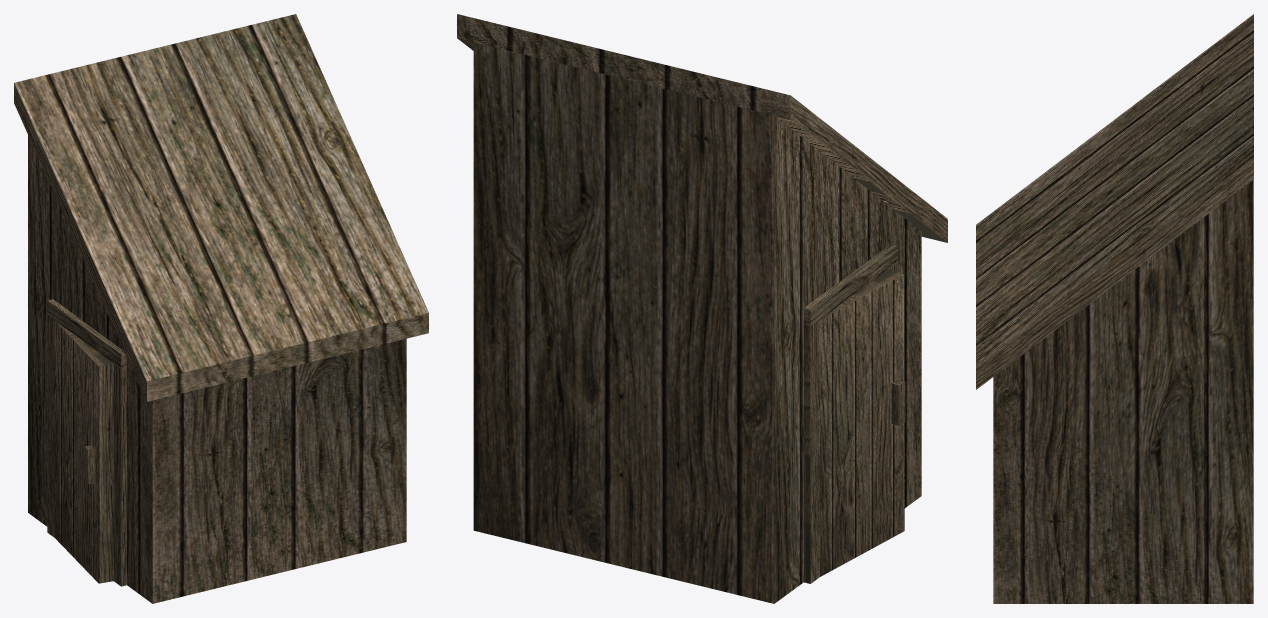
Rendered from mm9_deco_woodshed01.glb.
3 renders of one model, left to right at view 1: azimuth 30°, elevation 25°; view 2: azimuth 150°, elevation 25°; view 3: azimuth 270°, elevation 25°, orthographic. The views are drawn at different scales.
Parts seen in each view (by area): view 1: Woodshed01; view 2: Woodshed01; view 3: Woodshed01.
Boxes of the visible parts, x1=… form: Woodshed01: x1=14, y1=14, x2=428, y2=603; Woodshed01: x1=457, y1=14, x2=947, y2=603; Woodshed01: x1=976, y1=14, x2=1253, y2=603.
Size of the model in its own units: 3.23 by 4.56 by 2.53.
2 materials, 2 textured.
